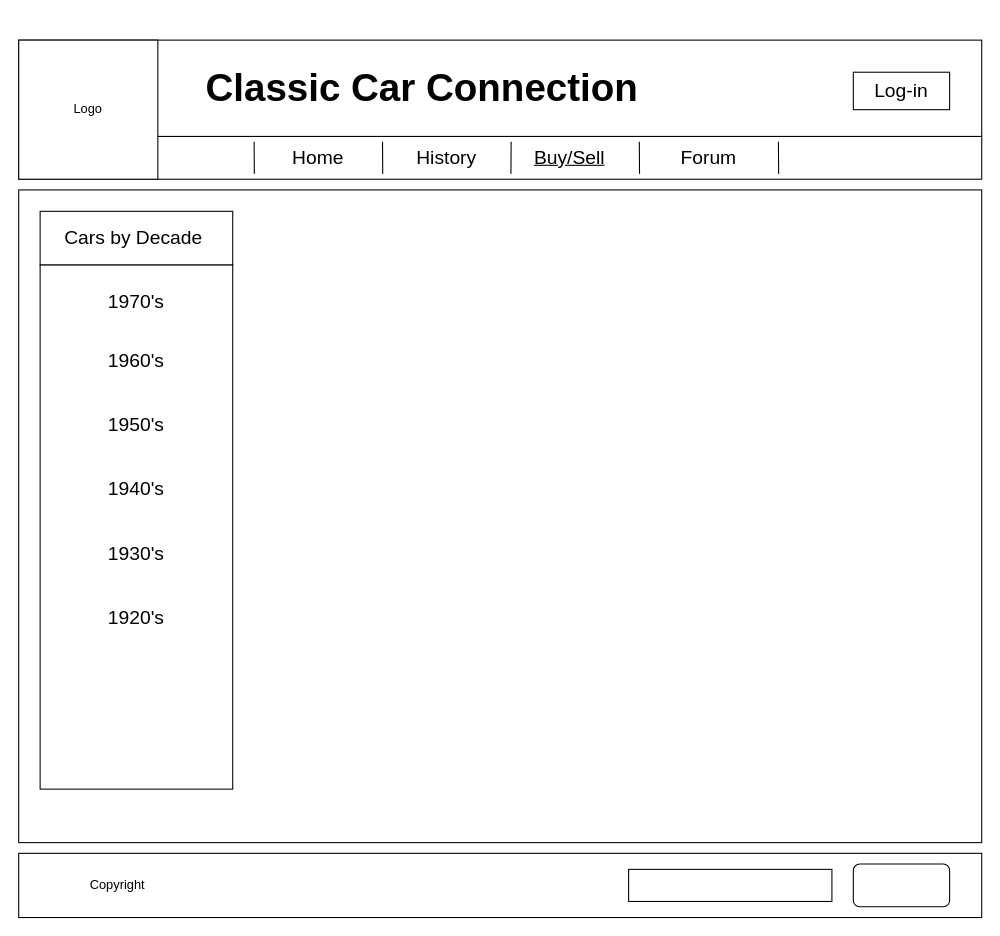
The diagram is 1000 pixels wide and 936 high, and some of its shapes have lost their labels. Each missing label, with the box of its shape:
EMAIL:: (628, 868, 832, 901)
Sign up: (852, 863, 950, 907)
